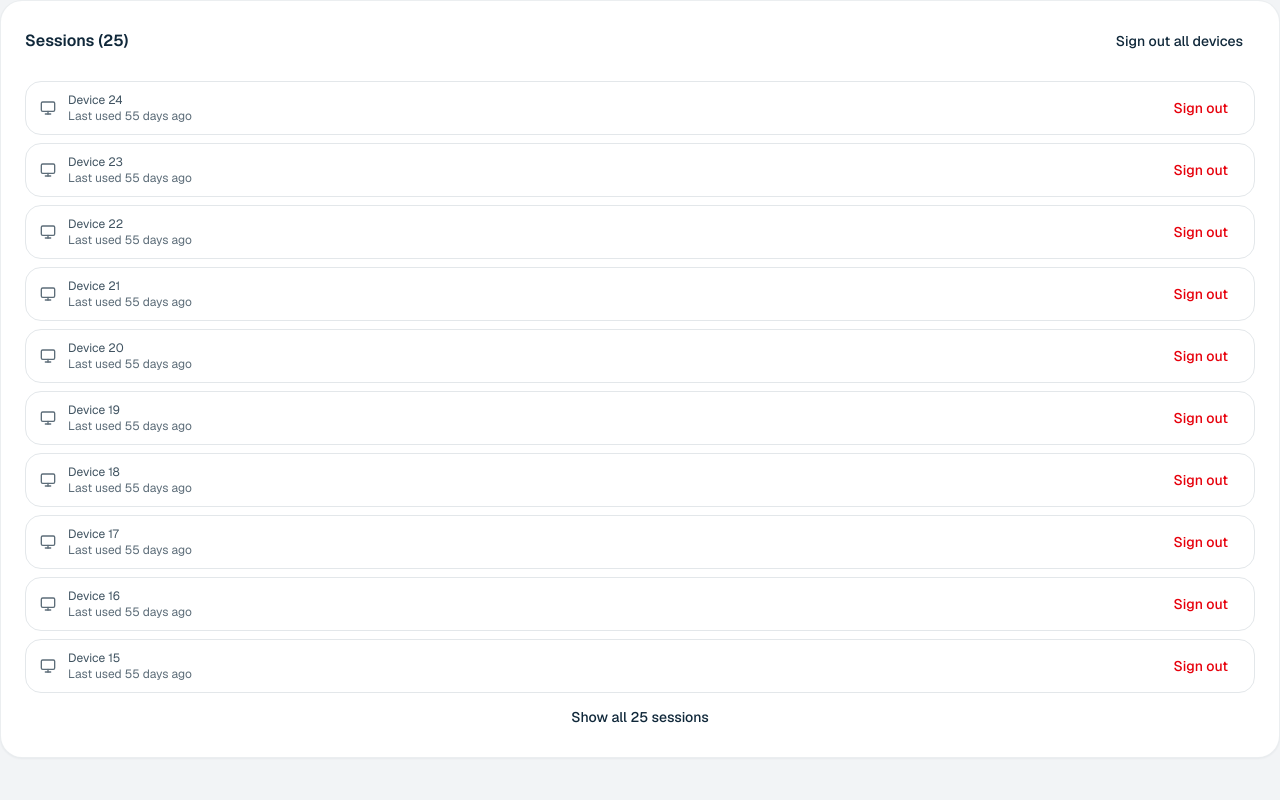
Scenario: a user with many sessions › expands in place and collapses again
Click the button "Show all 25 sessions" at (640, 717), box [25,701,1255,733]
(page scrolled)
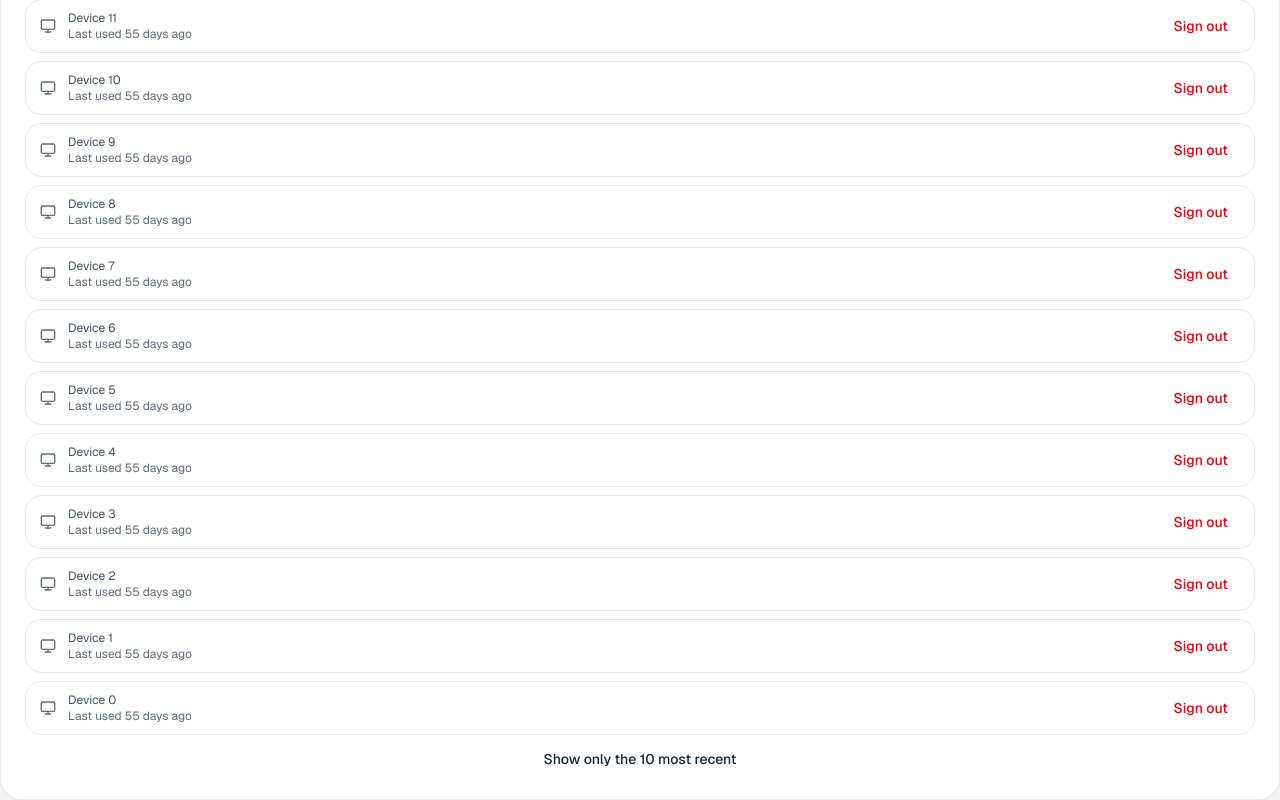
Click the button "Show only the 10 most recent" at (640, 759), box [25,743,1255,775]
(page scrolled)
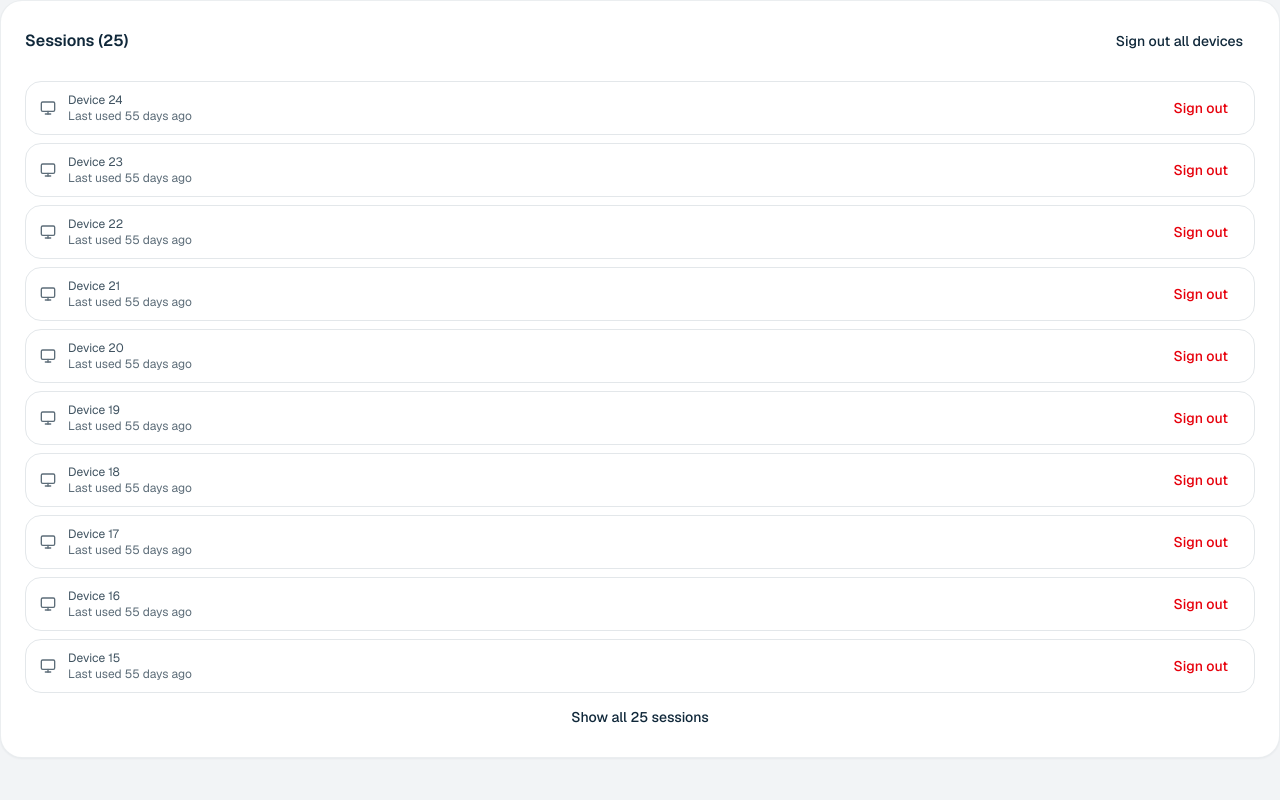
Check: the number of buttons named "Sign out Device" is 10
